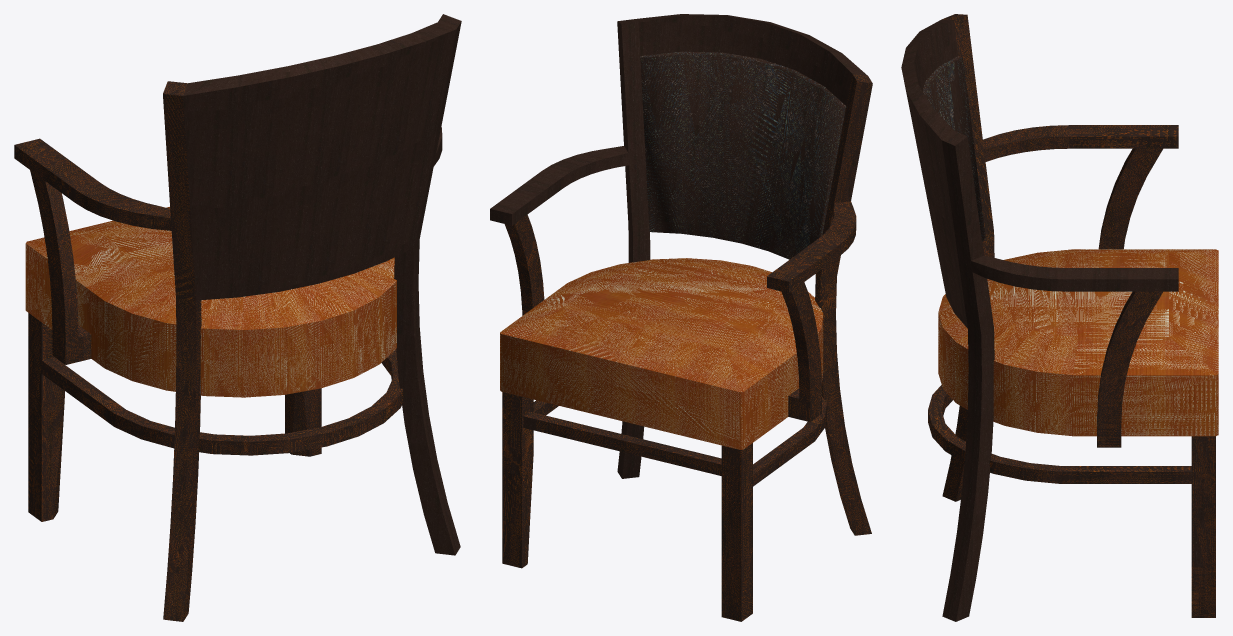
3 views of the same model, side by side, from view 1: azimuth 30°, elevation 25°; view 2: azimuth 150°, elevation 25°; view 3: azimuth 270°, elevation 25° (orthographic). The views are drawn at different scales.
Parts seen in each view (by area): view 1: mesh22_mesh22-geometry, mesh9_mesh9-geometry, mesh1_mesh1-geometry, mesh10_mesh10-geometry, mesh7_mesh7-geometry, mesh17_mesh17-geometry, mesh20_mesh20-geometry, mesh8_mesh8-geometry, mesh18_mesh18-geometry; view 2: mesh9_mesh9-geometry, mesh22_mesh22-geometry, mesh1_mesh1-geometry, mesh10_mesh10-geometry, mesh17_mesh17-geometry, mesh18_mesh18-geometry, mesh16_mesh16-geometry, mesh21_mesh21-geometry, mesh20_mesh20-geometry, mesh8_mesh8-geometry, mesh6_mesh6-geometry, mesh7_mesh7-geometry; view 3: mesh9_mesh9-geometry, mesh10_mesh10-geometry, mesh22_mesh22-geometry, mesh7_mesh7-geometry, mesh16_mesh16-geometry, mesh8_mesh8-geometry, mesh18_mesh18-geometry, mesh6_mesh6-geometry, mesh1_mesh1-geometry, mesh20_mesh20-geometry.
Part boxes in pixels (x1,y1,x2,y2): mesh22_mesh22-geometry: (183,22,456,300); mesh9_mesh9-geometry: (25,207,396,397); mesh1_mesh1-geometry: (163,81,201,621); mesh10_mesh10-geometry: (394,14,461,555); mesh7_mesh7-geometry: (41,349,403,455); mesh17_mesh17-geometry: (28,313,64,521); mesh20_mesh20-geometry: (30,170,91,364); mesh8_mesh8-geometry: (14,138,171,230); mesh18_mesh18-geometry: (285,388,321,456); mesh9_mesh9-geometry: (500,258,823,449); mesh22_mesh22-geometry: (635,14,867,259); mesh1_mesh1-geometry: (815,74,872,535); mesh10_mesh10-geometry: (617,19,650,478); mesh17_mesh17-geometry: (721,443,752,621); mesh18_mesh18-geometry: (502,392,533,568); mesh16_mesh16-geometry: (490,146,628,225); mesh21_mesh21-geometry: (523,411,721,475); mesh20_mesh20-geometry: (781,282,821,422); mesh8_mesh8-geometry: (767,201,856,293); mesh6_mesh6-geometry: (504,214,544,315); mesh7_mesh7-geometry: (533,396,826,486); mesh9_mesh9-geometry: (938,249,1218,436); mesh10_mesh10-geometry: (942,130,994,621); mesh22_mesh22-geometry: (901,19,985,327); mesh7_mesh7-geometry: (928,385,1191,483); mesh16_mesh16-geometry: (971,255,1178,291); mesh8_mesh8-geometry: (983,125,1178,161); mesh18_mesh18-geometry: (1191,436,1215,617); mesh6_mesh6-geometry: (1097,291,1162,447); mesh1_mesh1-geometry: (942,14,994,501); mesh20_mesh20-geometry: (1098,148,1162,249).
Size of the model in its own units: 0.5015 by 0.7474 by 0.4358.
Materials: 4 (4 with a texture image).
